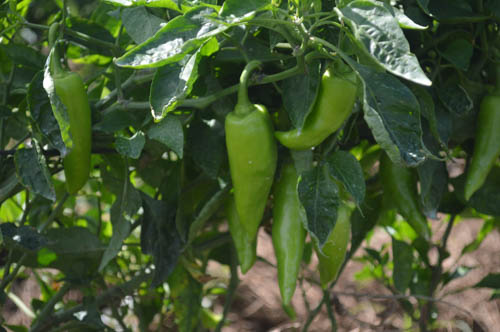ChiliPepper: (270, 74, 360, 157), (222, 110, 276, 247), (39, 73, 92, 198), (274, 158, 308, 308), (379, 150, 428, 239), (463, 94, 500, 198), (310, 203, 353, 290), (226, 188, 254, 276)
